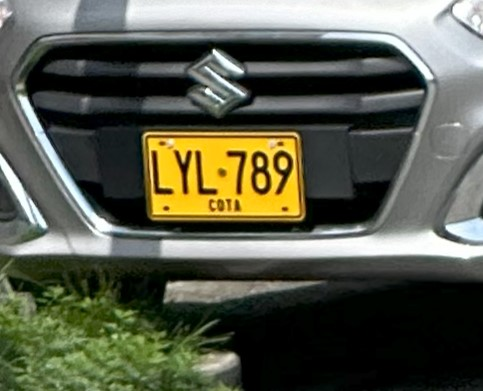number plate: (143, 132, 305, 221)
